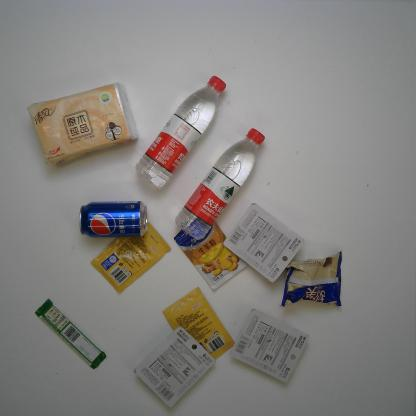Chocolate: (35, 298, 108, 371)
Dessert: (279, 248, 344, 308)
Drink: (134, 74, 227, 190), (173, 127, 265, 241), (78, 199, 149, 239)
Seasoner: (89, 219, 172, 296), (161, 285, 236, 361), (173, 217, 249, 291)
Stationery: (223, 201, 305, 285), (134, 325, 216, 408), (229, 308, 310, 384)
Tissue: (26, 79, 140, 167)
